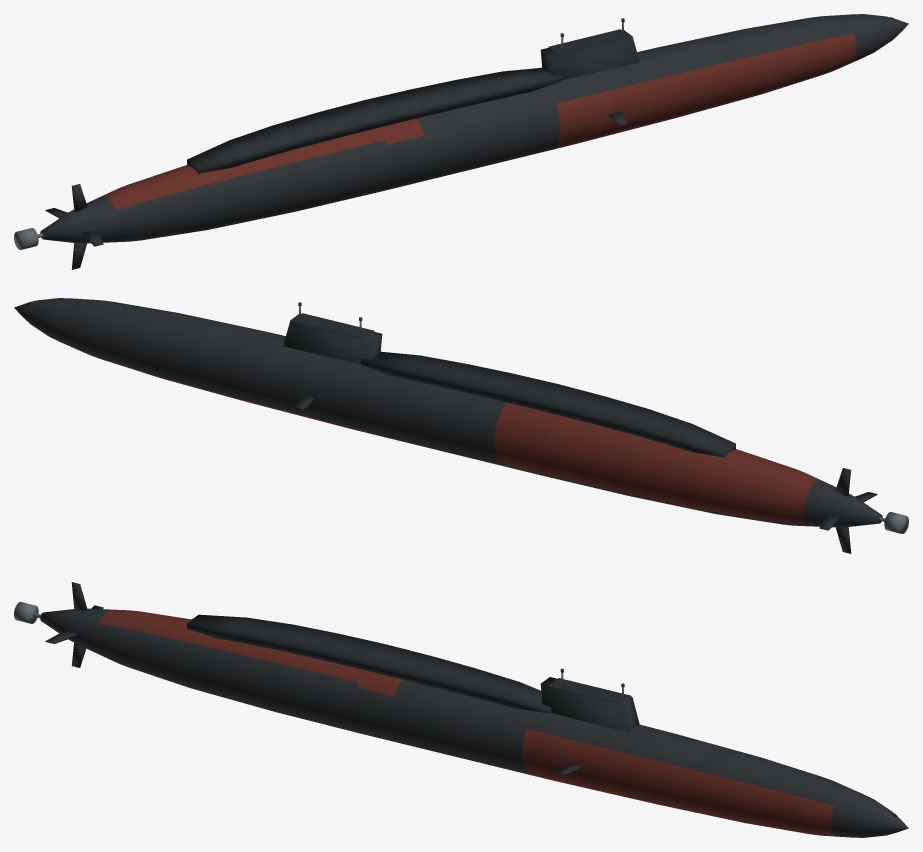
File: US_SSBN_Columbia_LOD2.fbx
3 views of the same model, one above another, from view 1: azimuth 30°, elevation 25°; view 2: azimuth 150°, elevation 25°; view 3: azimuth 330°, elevation 25° (orthographic).
Parts seen in each view (by area): view 1: US_SSBN_Columbia_LOD2; view 2: US_SSBN_Columbia_LOD2; view 3: US_SSBN_Columbia_LOD2.
Part boxes in pixels (x1,y1,x2,y2): US_SSBN_Columbia_LOD2: (14,14,908,269); US_SSBN_Columbia_LOD2: (14,298,908,553); US_SSBN_Columbia_LOD2: (14,582,908,837).
Bounding box in the file's own units: 176 × 21.95 × 21.93.
6 materials, 1 textured.
